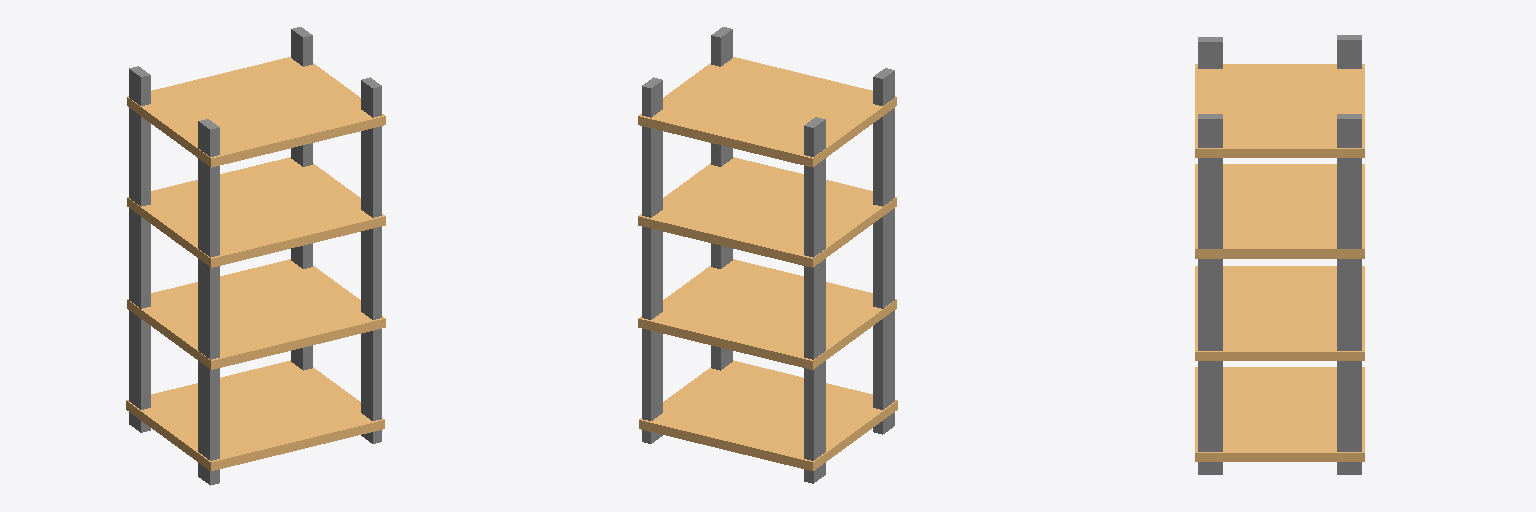
Rendered from rackpoly.obj.
The picture shows the model from 3 angles: view 1: azimuth 30°, elevation 25°; view 2: azimuth 150°, elevation 25°; view 3: azimuth 270°, elevation 25°; orthographic projection.
Parts seen in each view (by area): view 1: model; view 2: model; view 3: model.
Boxes of the visible parts, <box> form: model: <box>126,27,385,485</box>; model: <box>638,27,897,483</box>; model: <box>1195,35,1364,474</box>.
Size of the model in its own units: 1 by 1.96 by 0.84.